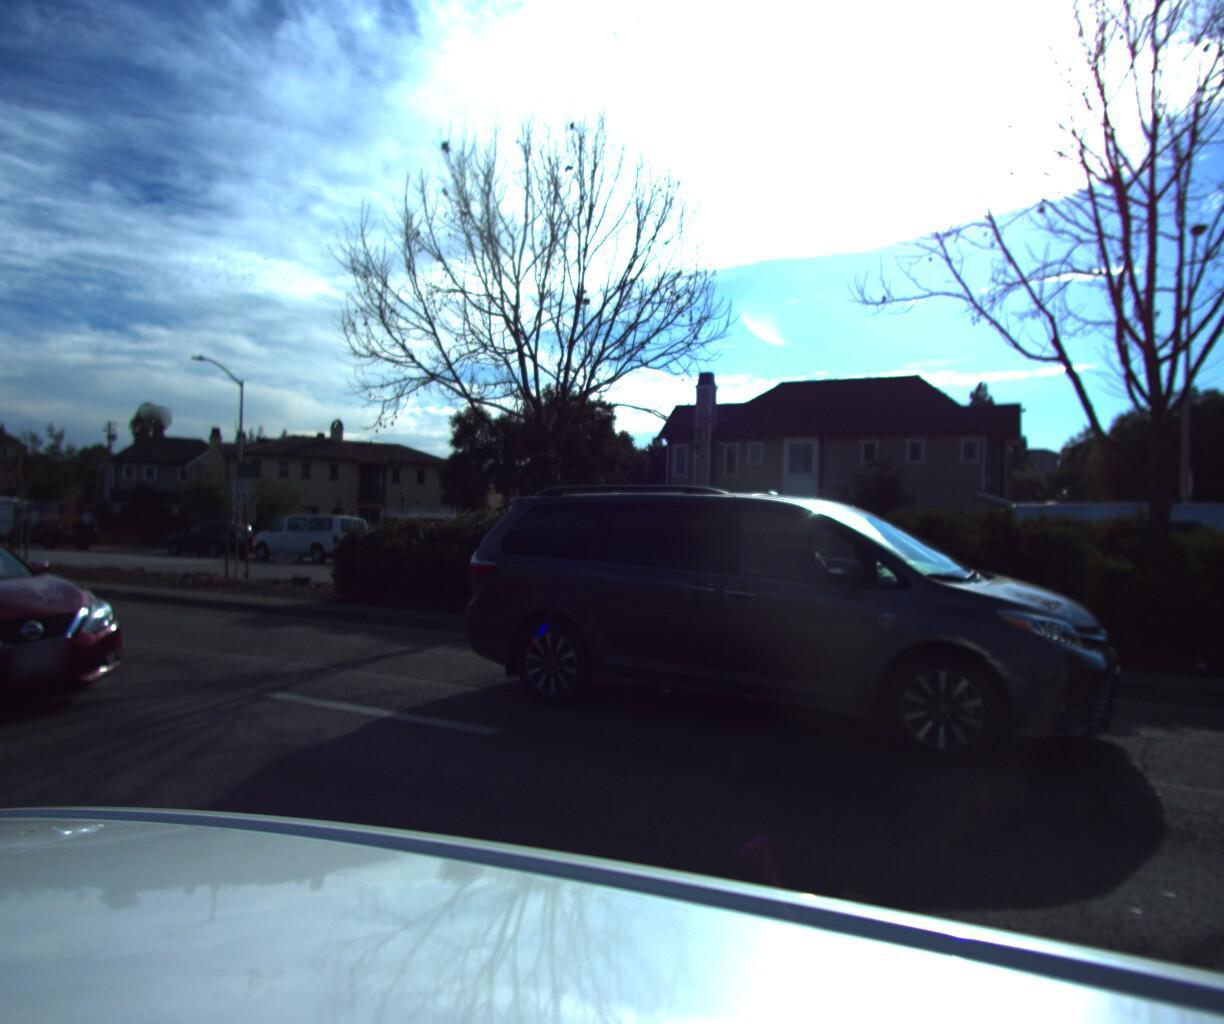car: (441, 472, 1114, 793), (0, 504, 183, 778), (905, 487, 1224, 620), (341, 502, 492, 573), (242, 505, 378, 564), (5, 494, 103, 548), (152, 513, 262, 559)
other_vehicle: (0, 485, 37, 546)
